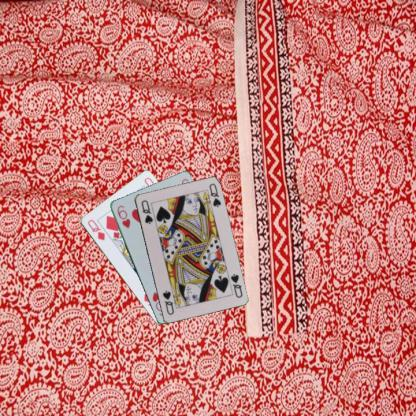6h: (114, 203, 132, 229)
Qd: (85, 217, 106, 242)
Qs: (138, 197, 154, 225), (228, 271, 243, 299)
